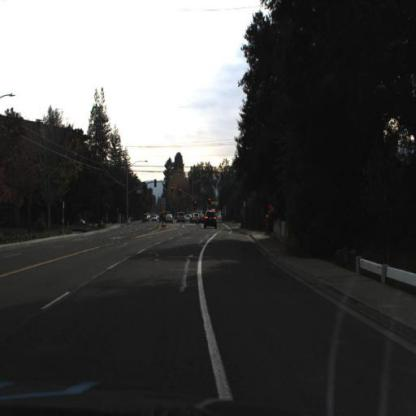car: (204, 209, 219, 228)
